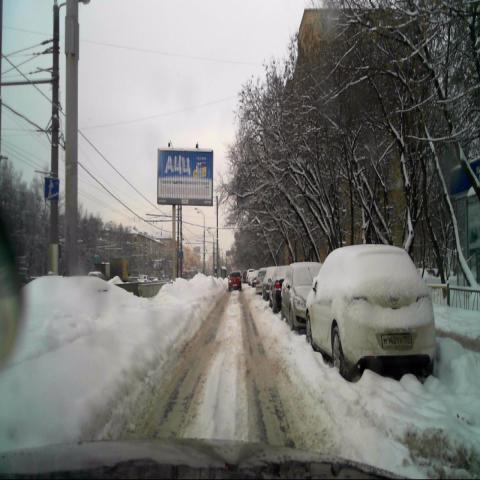6_6: (46, 177, 60, 202)
